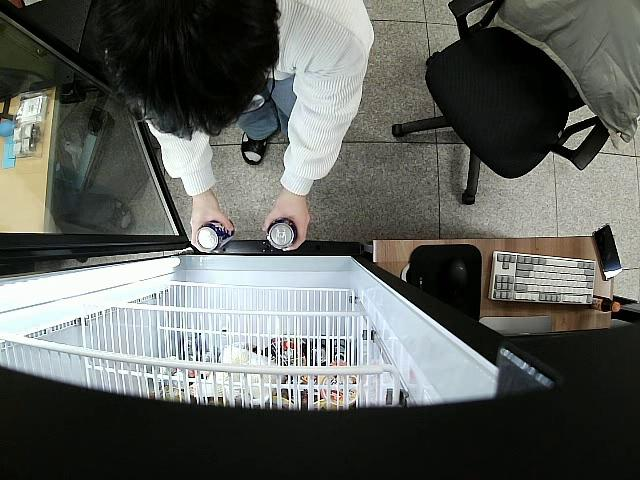00_hand: (259, 197, 310, 253), (190, 197, 235, 255)
14_welchsGrape: (196, 218, 233, 252), (265, 217, 298, 253)
